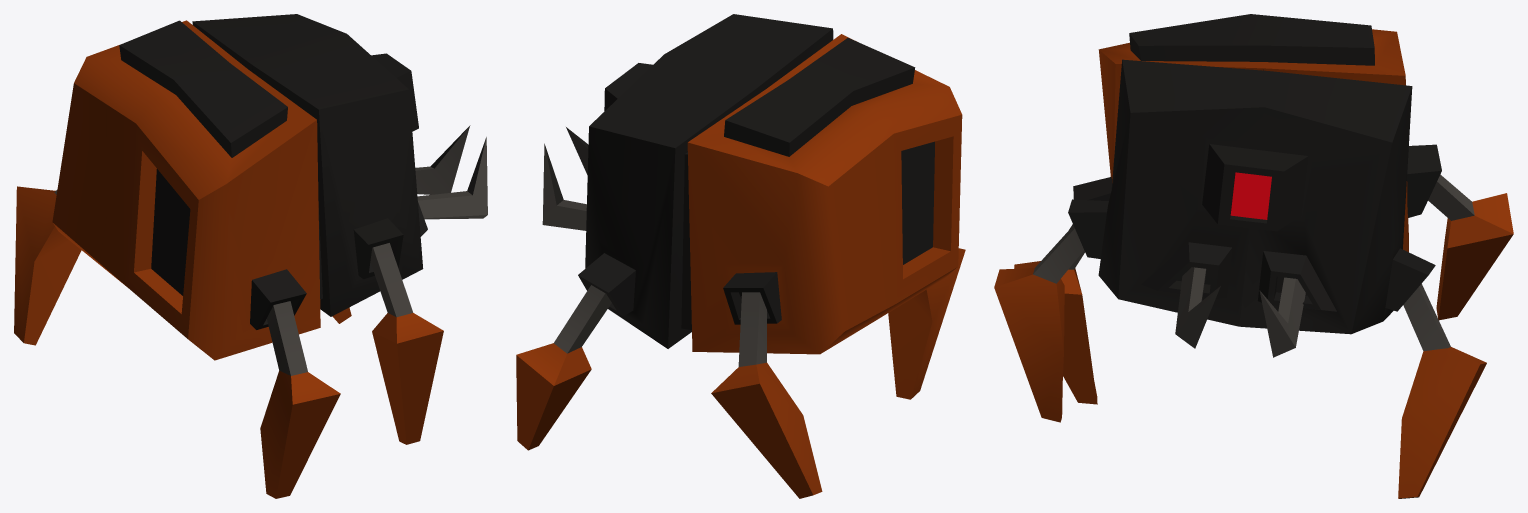
File: SPIDBOT13.obj
3 views of the same model, side by side, from view 1: azimuth 30°, elevation 25°; view 2: azimuth 150°, elevation 25°; view 3: azimuth 270°, elevation 25° (orthographic). The views are drawn at different scales.
Parts seen in each view (by area): view 1: Cube.001; view 2: Cube.001; view 3: Cube.001.
Boxes of the visible parts, left/top/right/bottom form: Cube.001: left=14, top=14, right=487, bottom=498; Cube.001: left=516, top=14, right=965, bottom=498; Cube.001: left=994, top=14, right=1513, bottom=498.
Size of what is drawn, in the model's own units: 2.94 by 2.83 by 3.56.
